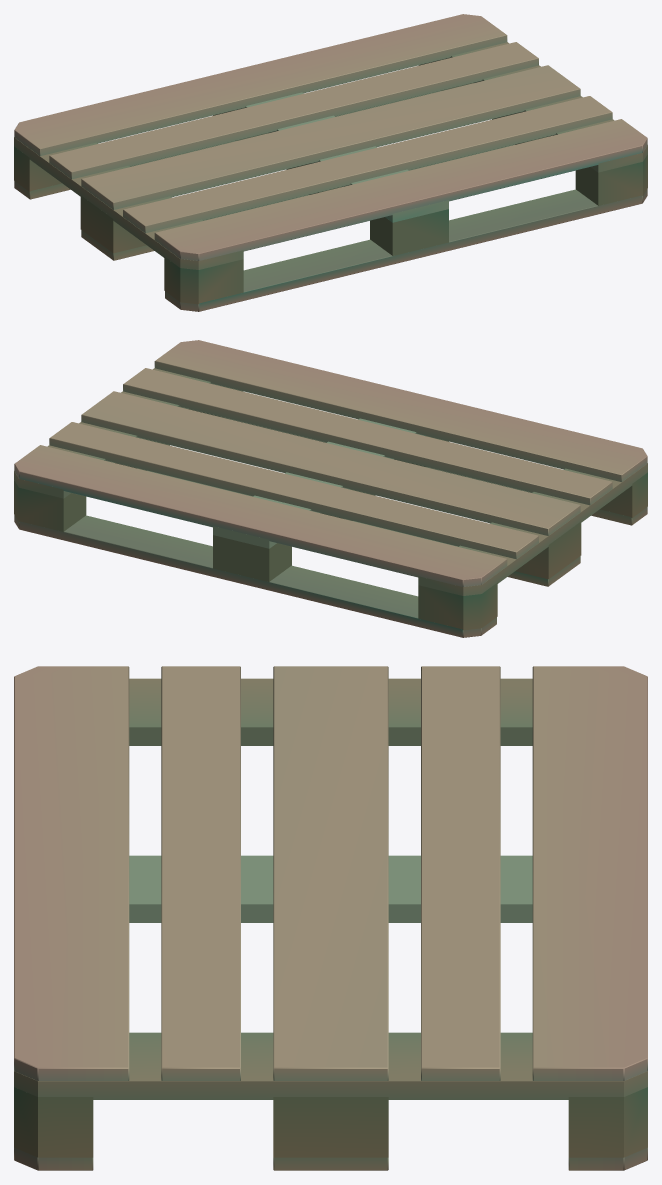
The picture shows the model from 3 angles, top to bottom: view 1: azimuth 30°, elevation 25°; view 2: azimuth 150°, elevation 25°; view 3: azimuth 270°, elevation 25°; orthographic projection. The views are drawn at different scales.
Parts seen in each view (by area): view 1: centre_slat, outer_slat.001, outer_slat, inner_slat, inner_slat.001, outer_runner.001, end_crossboard.003, end_outer_block.003, outer_block.001, end_outer_block.001, end_middle_block.001, crossboard (+4 smaller); view 2: centre_slat, outer_slat, outer_slat.001, inner_slat, inner_slat.001, outer_runner, end_crossboard.003, end_outer_block.002, outer_block, end_outer_block, end_middle_block.001, crossboard (+4 smaller); view 3: centre_slat, outer_slat, outer_slat.001, inner_slat, inner_slat.001, end_crossboard, end_crossboard.003, crossboard, end_middle_block, end_outer_block, end_outer_block.001, middle_runner (+2 smaller).
Boxes of the visible parts, <box> form: centre_slat: <box>81,65,580,209</box>; outer_slat.001: <box>154,119,647,260</box>; outer_slat: <box>14,14,507,155</box>; inner_slat: <box>49,42,538,179</box>; inner_slat.001: <box>123,96,612,233</box>; outer_runner.001: <box>165,189,647,311</box>; end_crossboard.003: <box>14,137,243,269</box>; end_outer_block.003: <box>164,256,243,304</box>; outer_block.001: <box>370,209,448,255</box>; end_outer_block.001: <box>575,154,647,205</box>; end_middle_block.001: <box>80,195,146,253</box>; crossboard: <box>236,92,448,222</box>; centre_slat: <box>81,391,580,535</box>; outer_slat: <box>14,445,507,586</box>; outer_slat.001: <box>154,340,647,481</box>; inner_slat: <box>49,422,538,559</box>; inner_slat.001: <box>123,368,612,505</box>; outer_runner: <box>14,515,496,637</box>; end_crossboard.003: <box>418,463,647,595</box>; end_outer_block.002: <box>418,582,497,630</box>; outer_block: <box>213,535,291,581</box>; end_outer_block: <box>14,480,86,531</box>; end_middle_block.001: <box>515,521,581,579</box>; crossboard: <box>213,418,425,548</box>; centre_slat: <box>273,666,388,1080</box>; outer_slat: <box>532,666,647,1080</box>; outer_slat.001: <box>14,666,129,1080</box>; inner_slat: <box>421,666,500,1080</box>; inner_slat.001: <box>161,666,240,1080</box>; end_crossboard: <box>14,1032,647,1099</box>; end_crossboard.003: <box>129,678,532,745</box>; crossboard: <box>129,855,532,922</box>; end_middle_block: <box>273,1097,388,1157</box>; end_outer_block: <box>568,1087,647,1157</box>; end_outer_block.001: <box>14,1087,93,1157</box>; middle_runner: <box>273,1157,388,1170</box>.
Size of the model in its own units: 1.2 by 0.1429 by 0.798.
